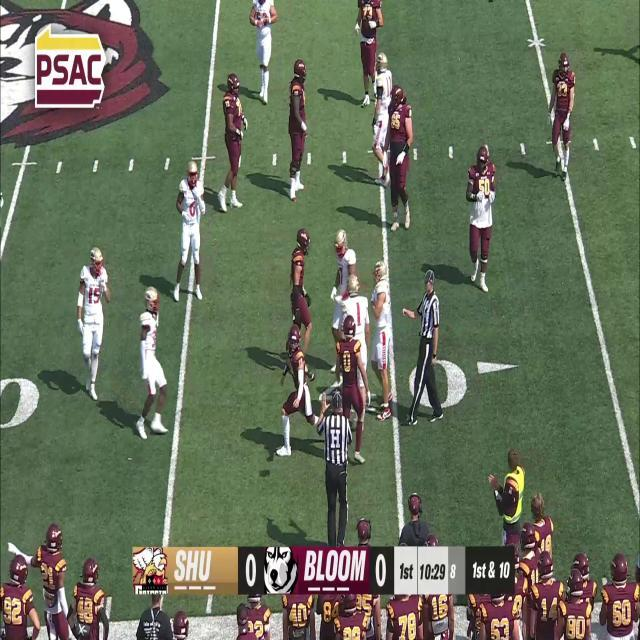football: (308, 370, 316, 383)
